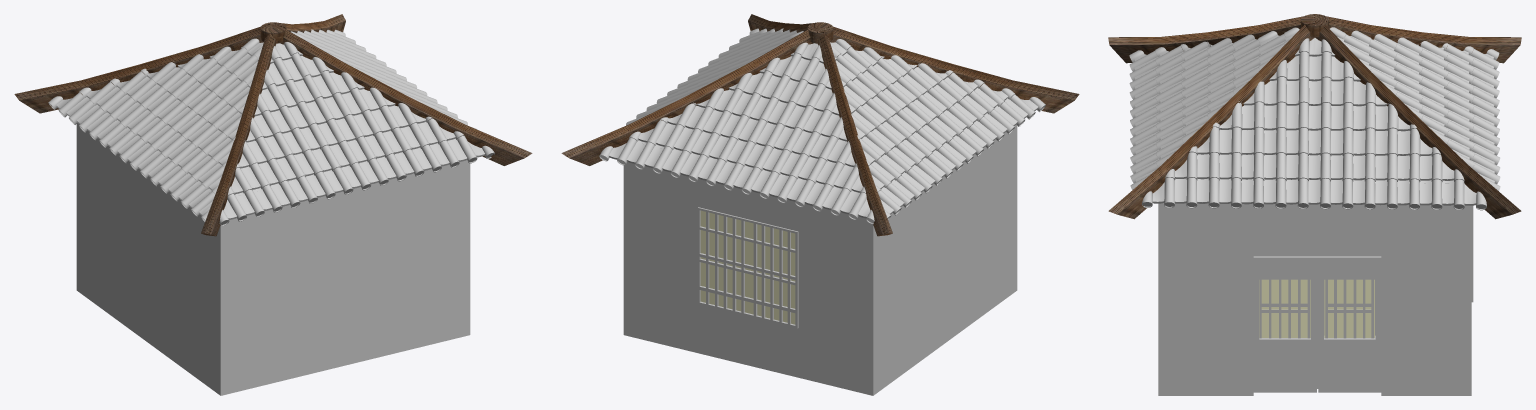
3 views of the same model, side by side, from view 1: azimuth 30°, elevation 25°; view 2: azimuth 150°, elevation 25°; view 3: azimuth 270°, elevation 25° (orthographic). The views are drawn at different scales.
Visible parts, largest first — view 1: Box006, Box001, Box005, Box003, Box004, Box002; view 2: Box006, Box001, 对象001, 对象002, Box002, Box004, Box003, Box005; view 3: Box001, Box006, 对象008, 对象005.001, 对象005, Box002, Box005, 对象003, Box004, Box003, 对象007, 对象006 (+1 smaller).
Boxes of the visible parts, x1,y1,x2,y2 form: Box006: (76,123,470,395); Box001: (48,29,494,225); Box005: (280,29,532,165); Box003: (14,26,263,113); Box004: (201,33,275,236); Box002: (280,14,345,32); Box006: (623,102,1017,395); Box001: (599,28,1045,224); 对象001: (697,207,798,328); 对象002: (700,210,795,324); Box002: (561,29,813,165); Box004: (830,26,1079,113); Box003: (818,33,892,236); Box005: (748,14,813,32); Box001: (1129,27,1500,210); Box006: (1158,183,1471,395); 对象008: (1318,277,1381,392); 对象005.001: (1253,277,1316,392); 对象005: (1259,279,1374,337); Box002: (1315,24,1521,219); Box005: (1108,24,1314,219); 对象003: (1253,256,1381,277); Box004: (1108,16,1303,63); Box003: (1326,16,1521,63); 对象007: (1325,279,1373,338); 对象006: (1259,279,1310,338).
Size of the model in its own units: 590 by 491 by 593.
